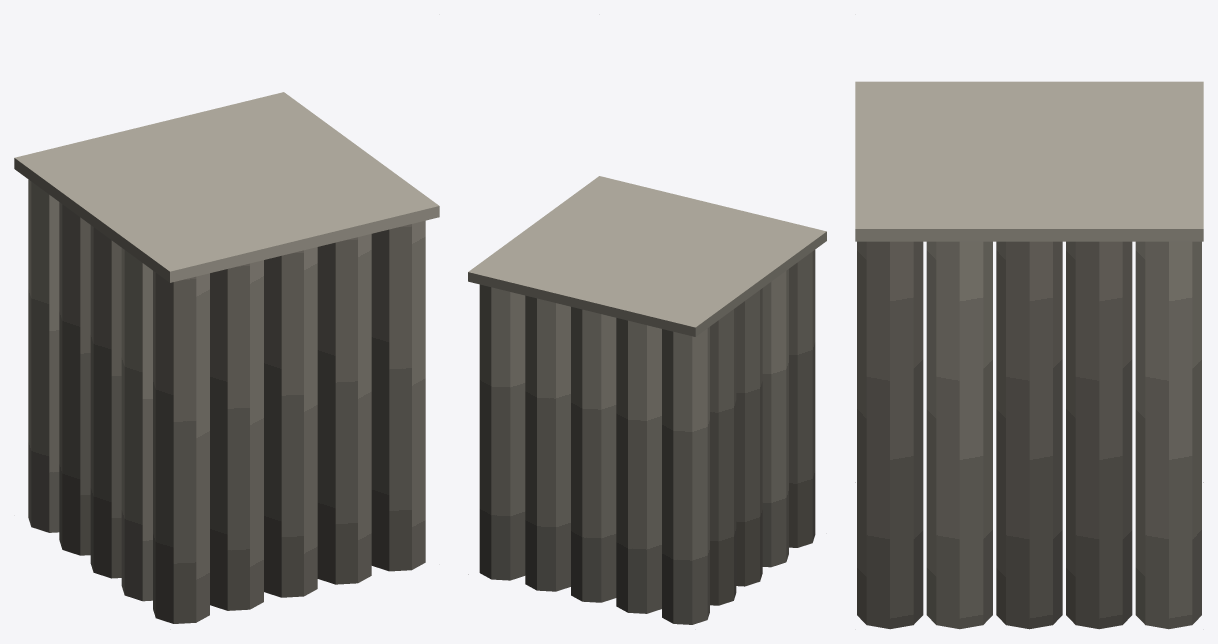
The model's file is perimeter_wall_stone_f15.glb.
The picture shows the model from 3 angles, left to right: view 1: azimuth 30°, elevation 25°; view 2: azimuth 150°, elevation 25°; view 3: azimuth 270°, elevation 25°; orthographic projection. The views are drawn at different scales.
Size of the model in its own units: 2 by 3.9 by 2.
1 material, 1 textured.
